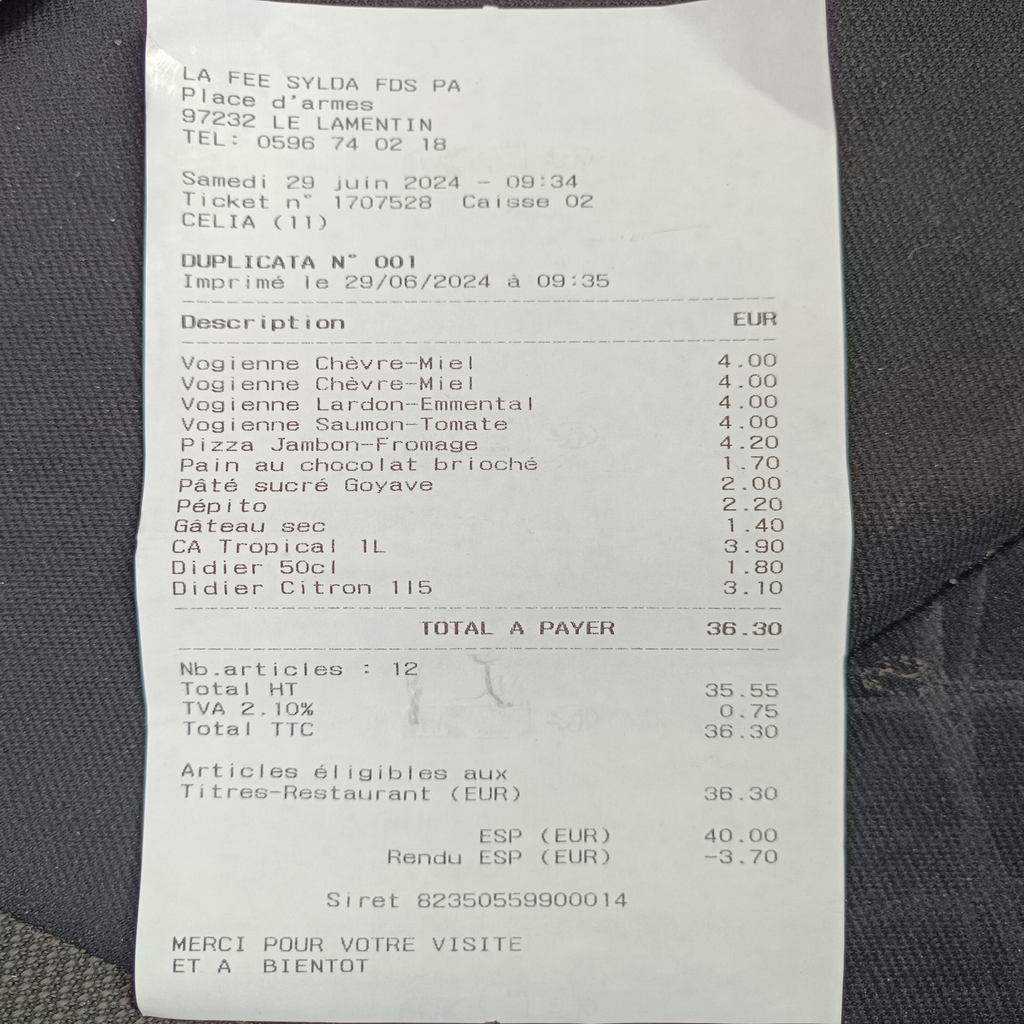recipt: (132, 0, 854, 1020)
